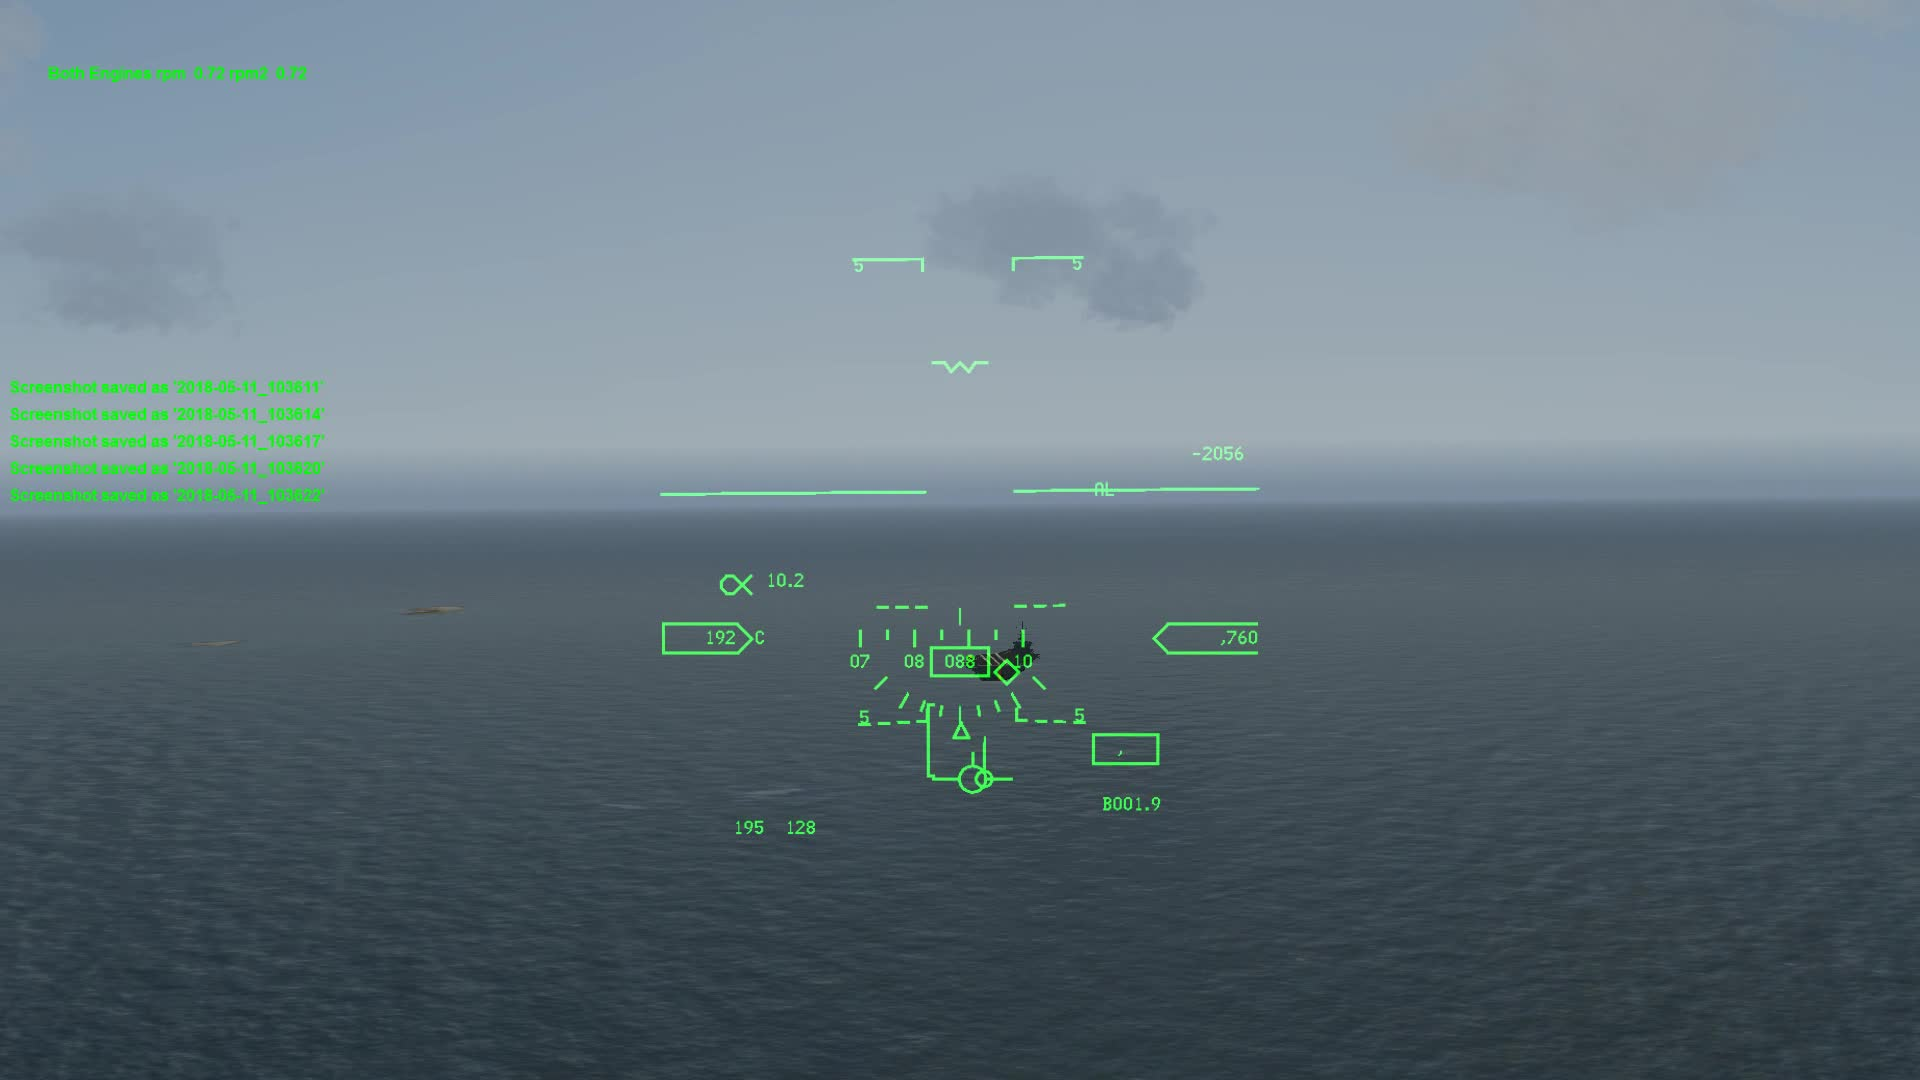speed vector: (938, 749, 1015, 798)
